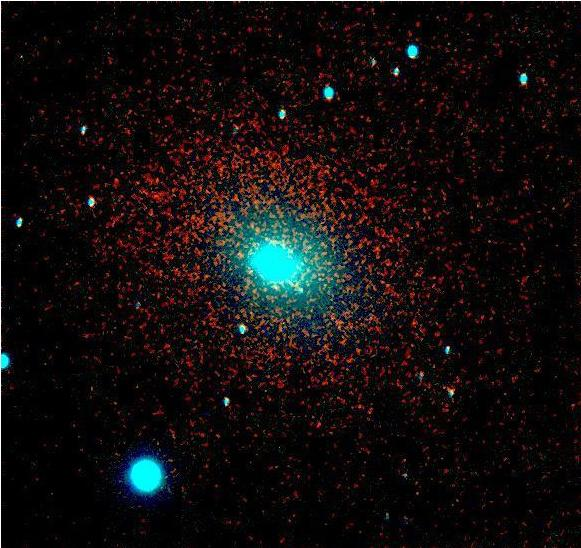star: (252, 225, 282, 255)
